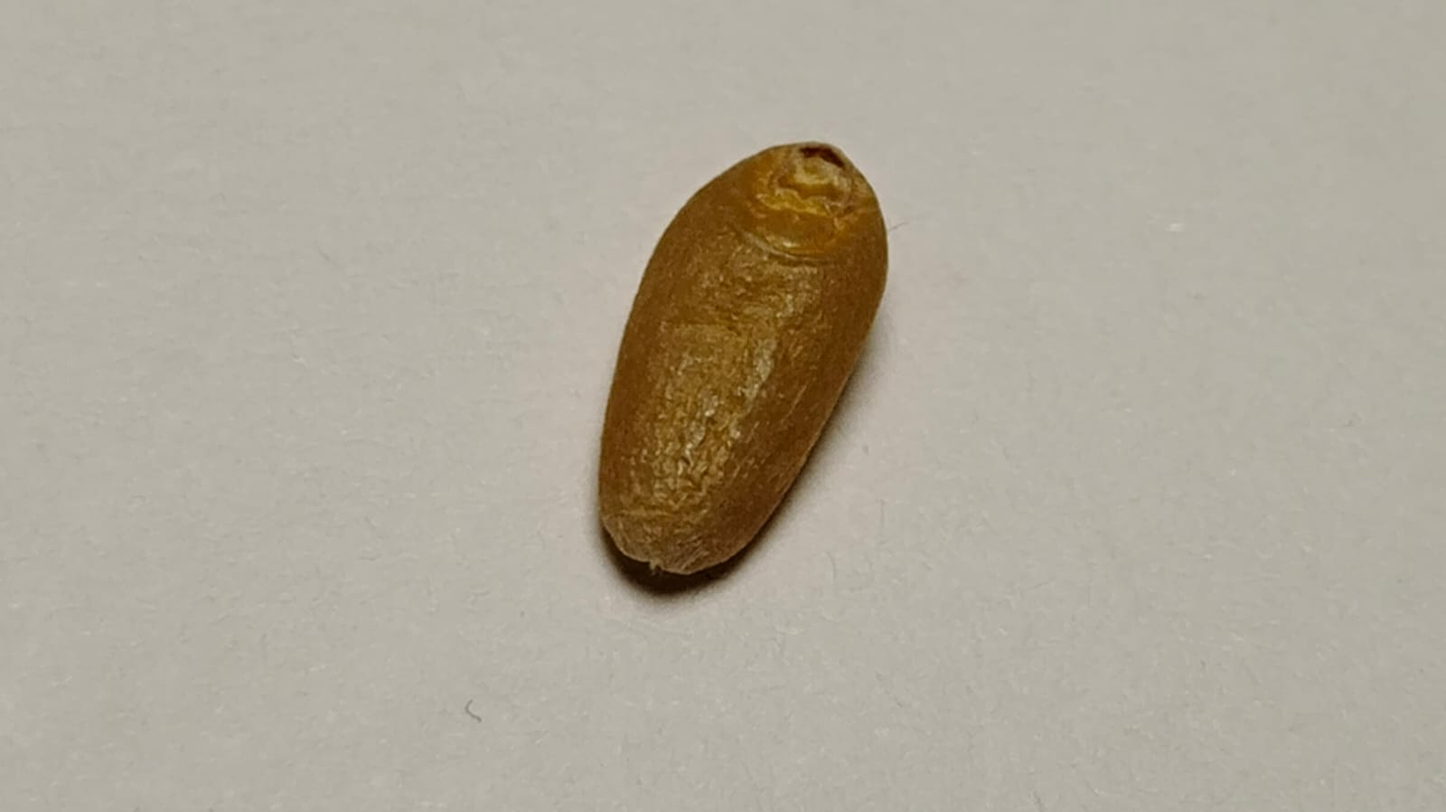healthy: (600, 142, 886, 571)
